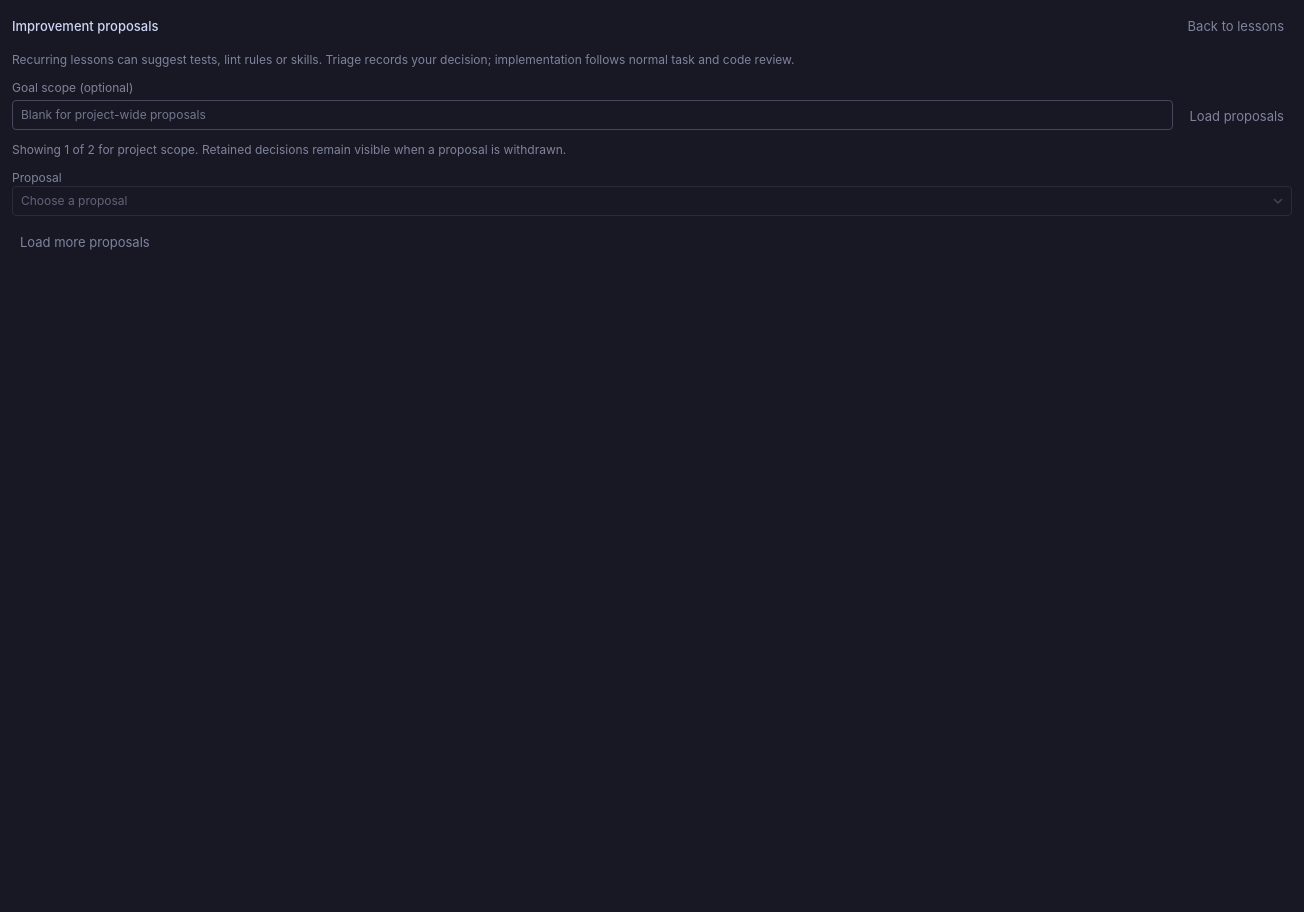
Test: KnowledgeImprovements › pages the catalog and all exact sources, and inspects a historical lesson without mutating
The width and height of the screenshot is (1304, 912).
Click the button "Load more proposals" at (85, 242), box [12,228,158,256]
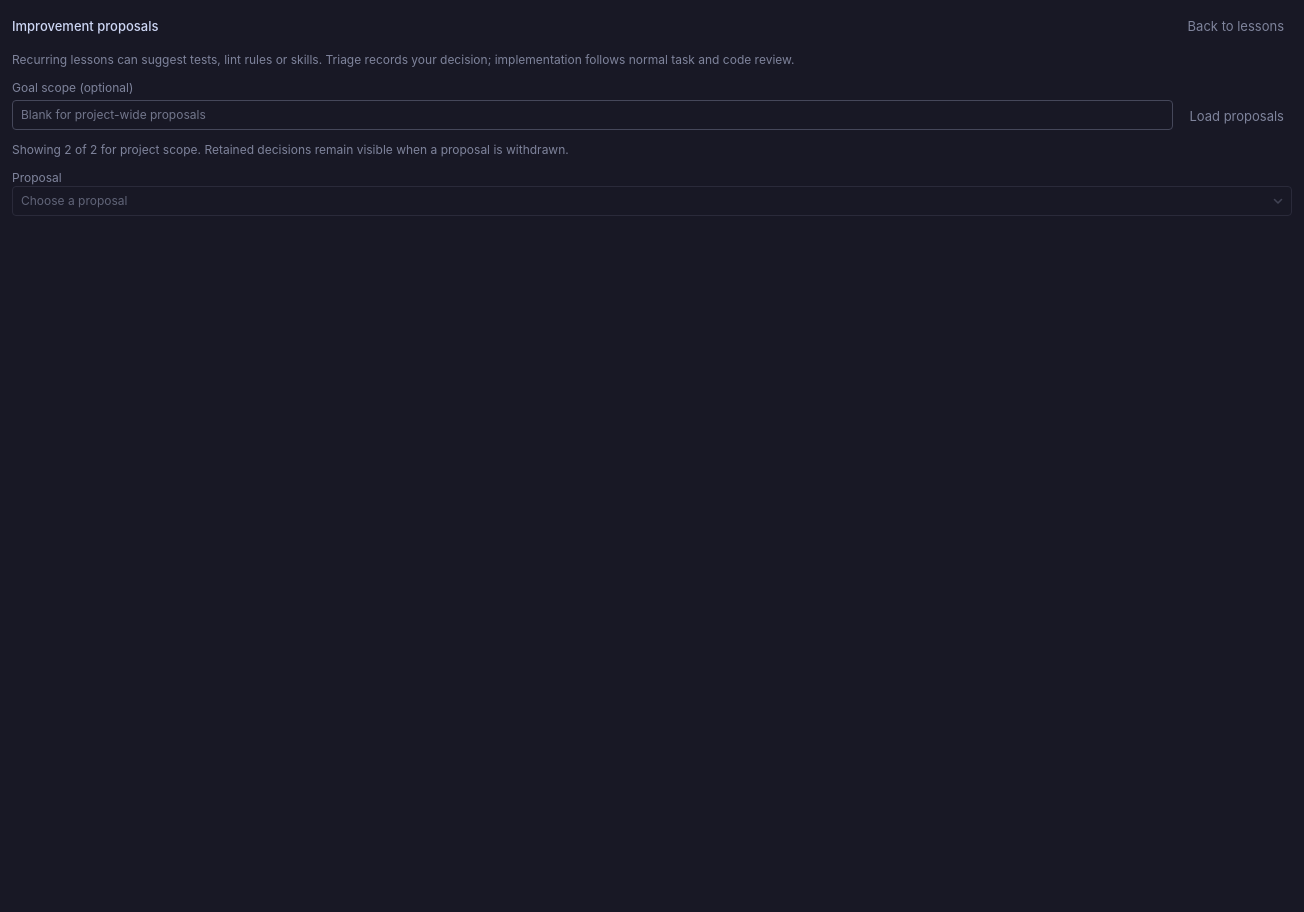
Select "Dialog focus · proposed" in the dropdown labelled "Proposal" at (652, 201), box [12,186,1292,216]
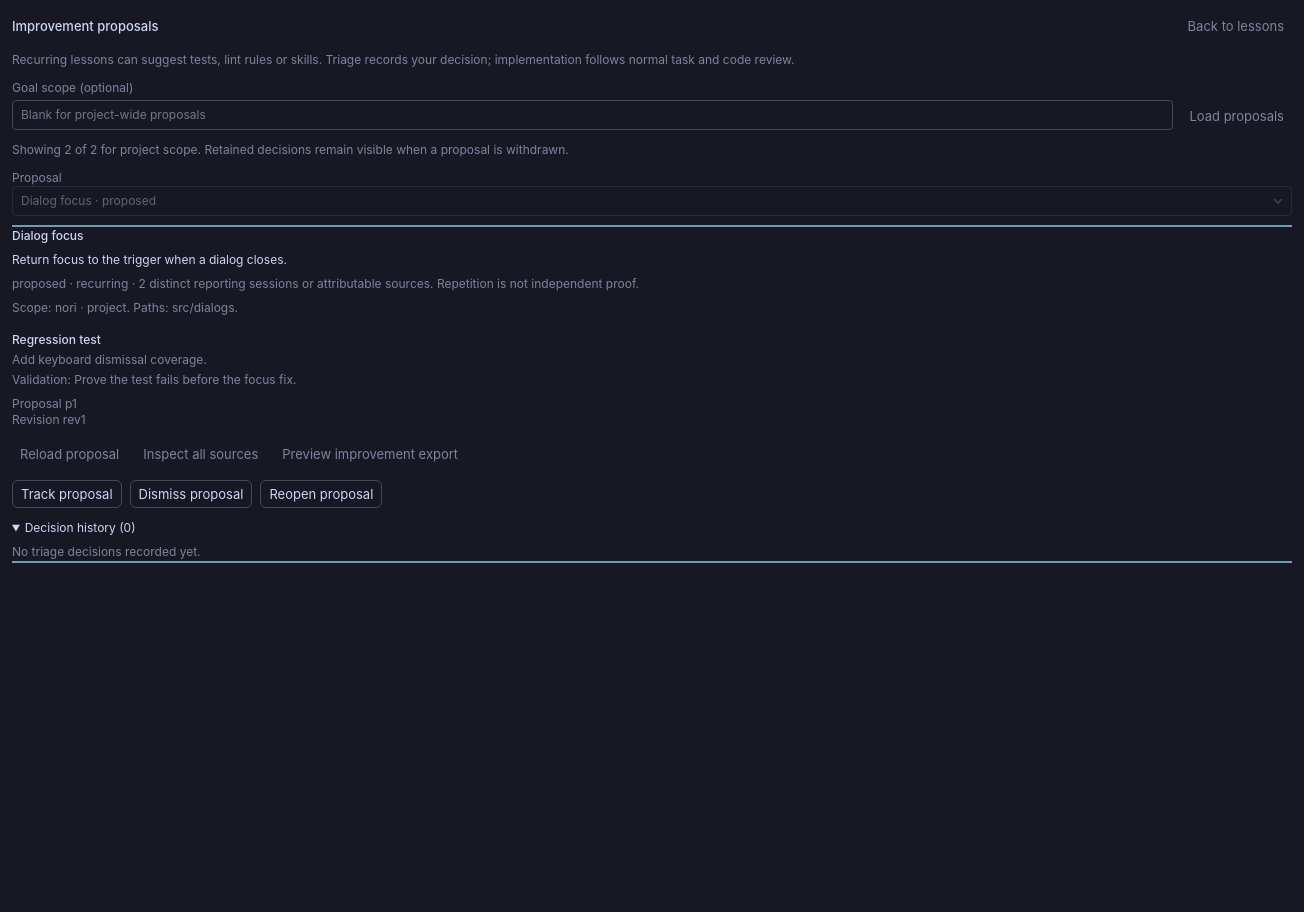
Result: the button "Reload proposal" is shown at [12,440,127,468]
Result: the text "Repetition is not independent proof" is shown at [12,276,639,291]
Click the button "Inspect all sources" at (201, 454), box [135,440,266,468]
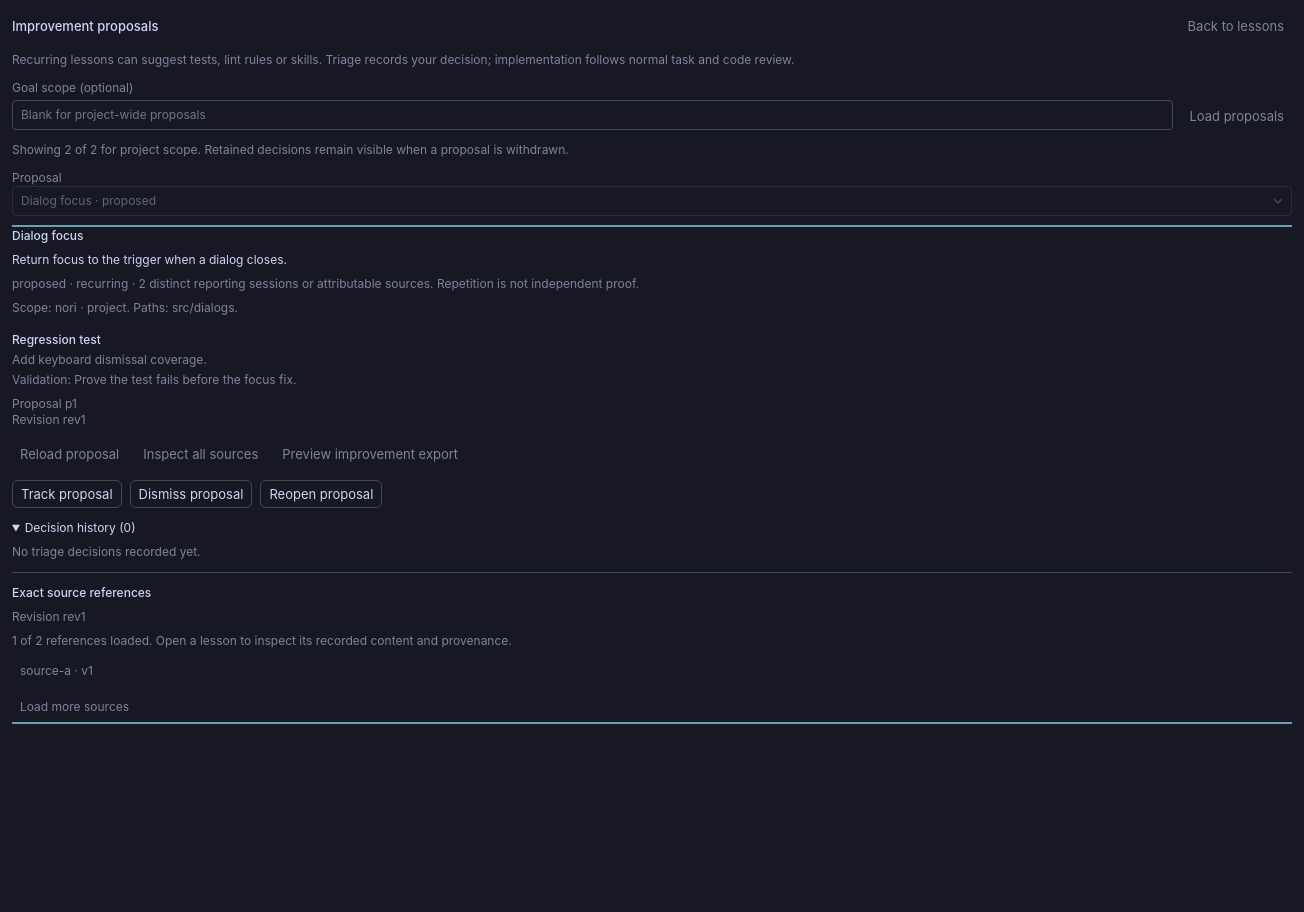
Result: the button "Load more sources" is shown
Click the button "Load more sources" at (75, 707), box [12,693,137,721]
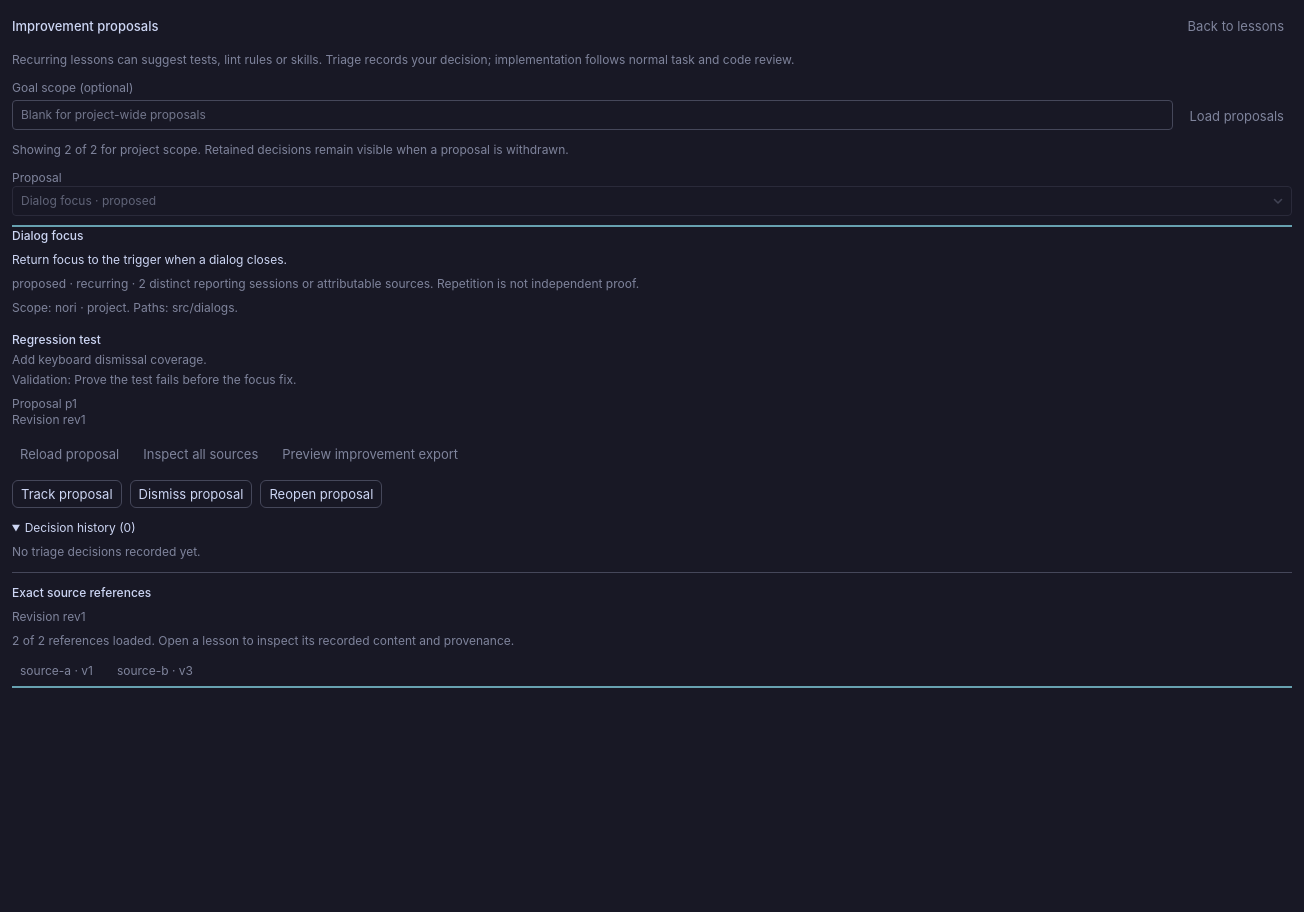
Result: the button "source-b · v3" is shown at [109,657,201,685]
Click the button "source-a · v1" at (56, 671), box [12,657,101,685]
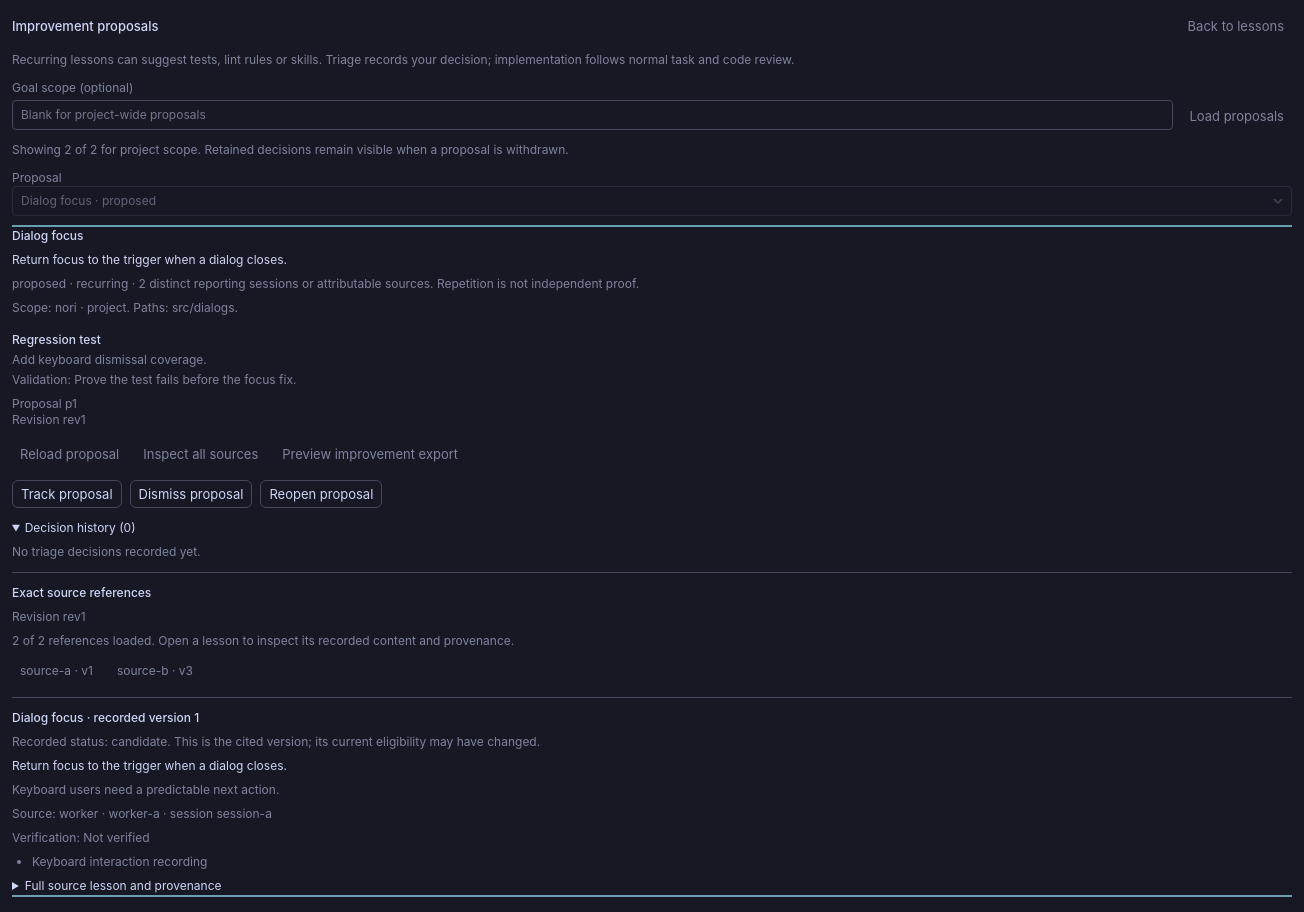
Result: the element named "Source lesson version" is shown at [12,697,1292,894]
Result: the text "its current eligibility may have changed" is shown at [12,734,540,749]
